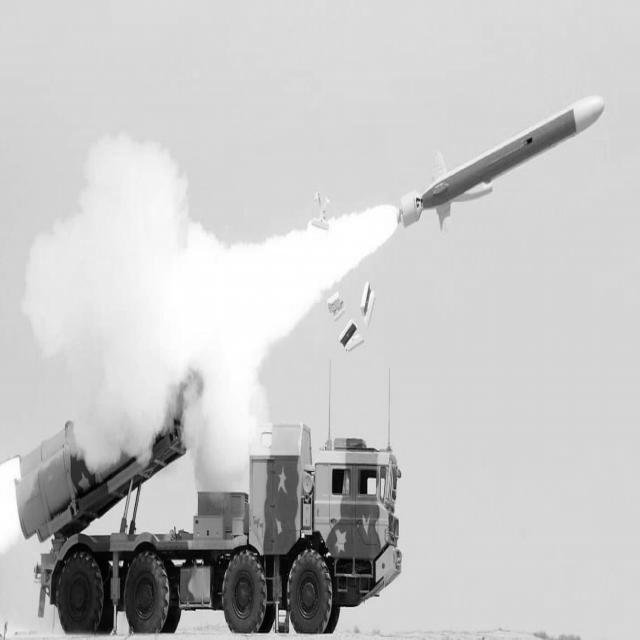Missile: (396, 82, 606, 245)
